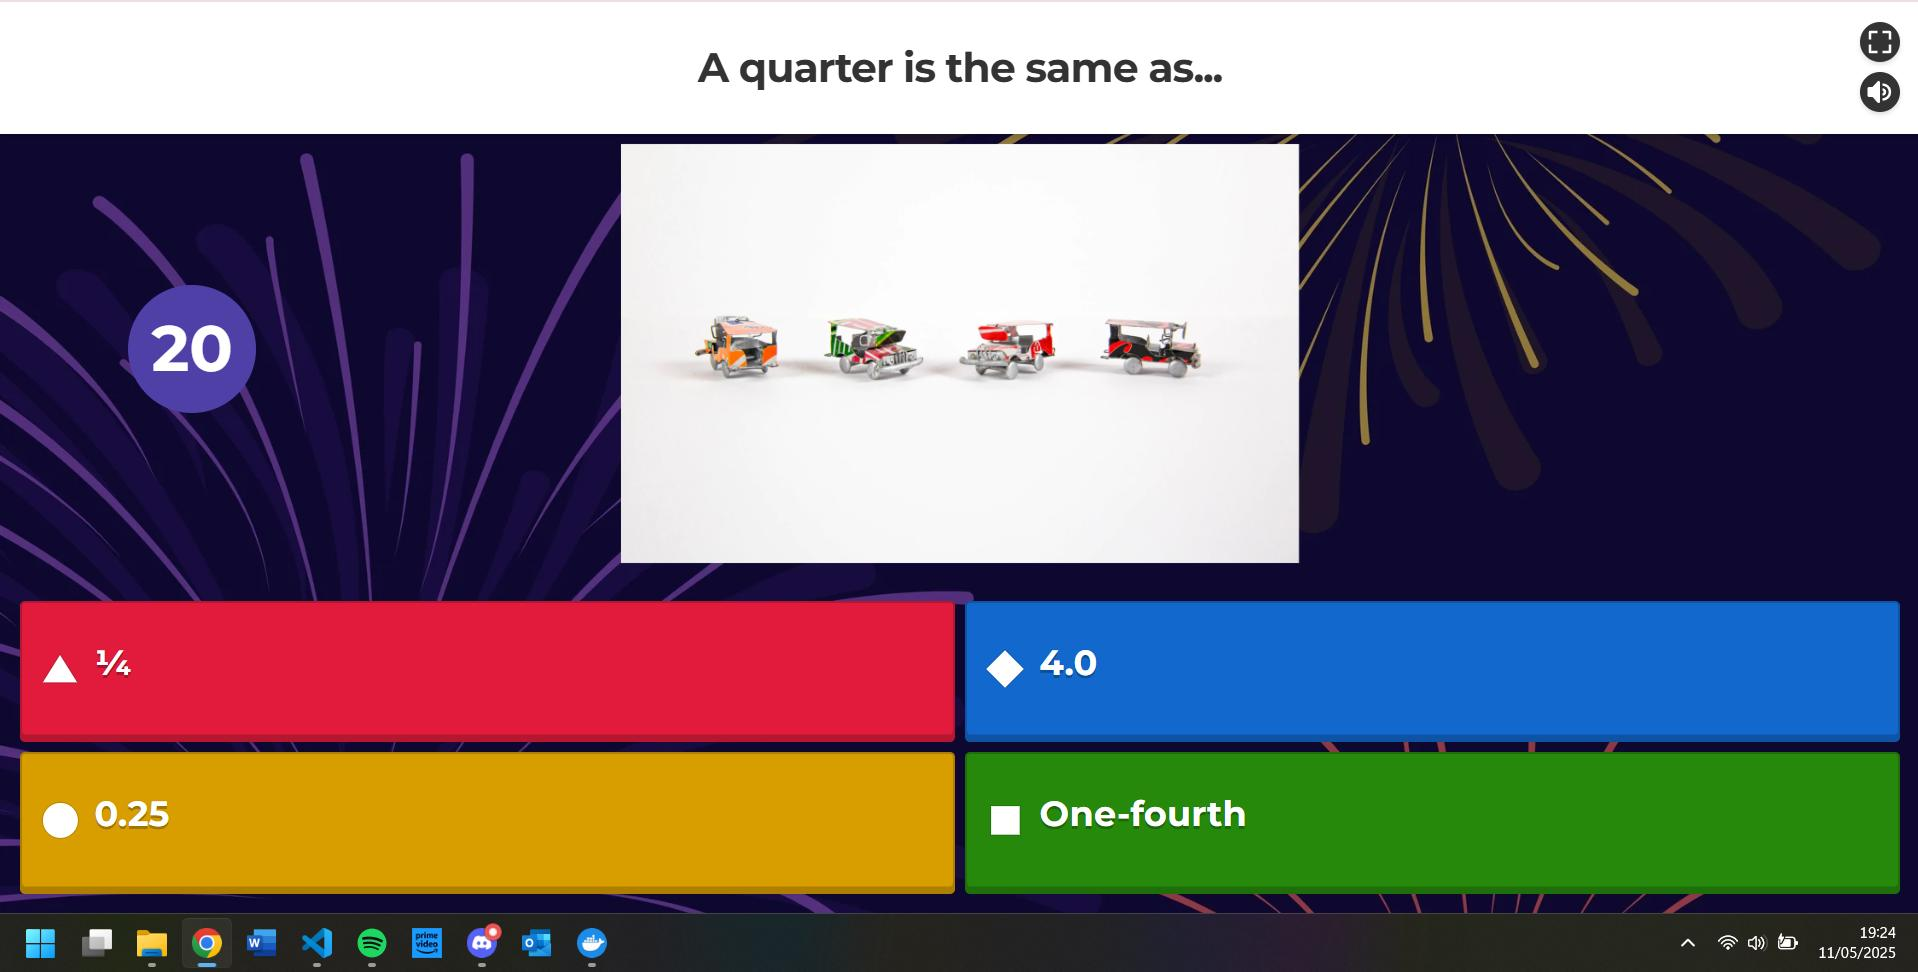answer_blue: (969, 605, 1897, 736)
answer_green: (969, 755, 1897, 889)
answer_red: (21, 603, 955, 743)
answer_yellow: (21, 759, 952, 891)
question_box: (6, 2, 1800, 134)
